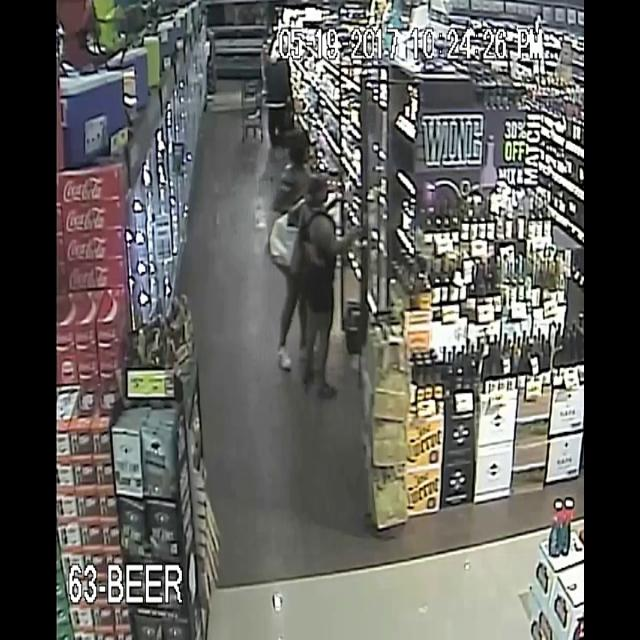normal: (264, 132, 402, 406), (260, 35, 292, 130), (277, 134, 318, 190)
